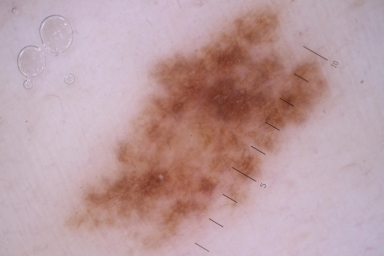nevus: (78, 15, 327, 236)
